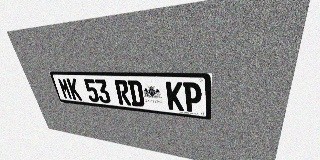3: (94, 79, 111, 104)
5: (83, 79, 100, 102)
D: (127, 80, 145, 107)
K: (166, 81, 184, 111), (66, 78, 82, 101)
M: (57, 78, 73, 100)
P: (183, 82, 202, 113)
R: (114, 80, 132, 106)
